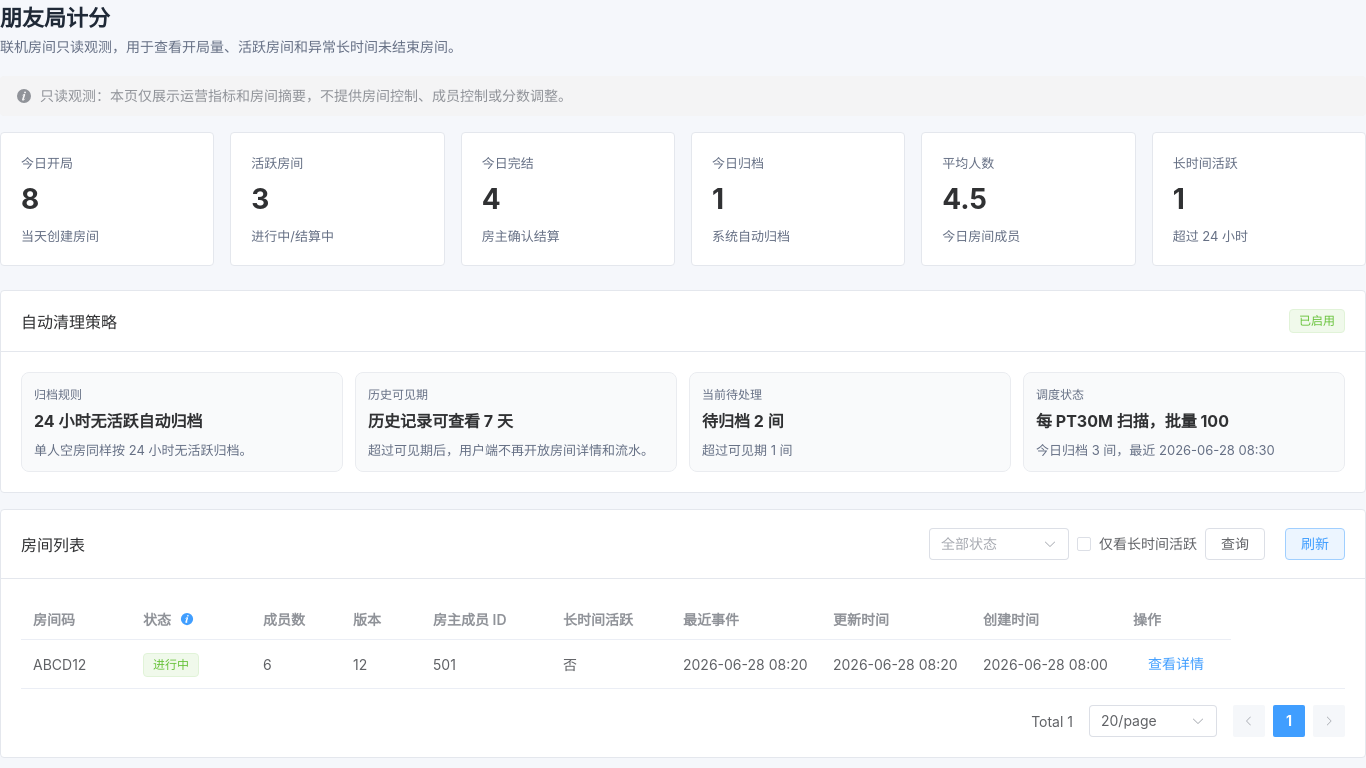
Test case: PartyScorePage › falls back to local status metadata when backend dictionary loading fails
Click the button named "状态说明": {"x": 187, "y": 619} [175, 607, 199, 631]
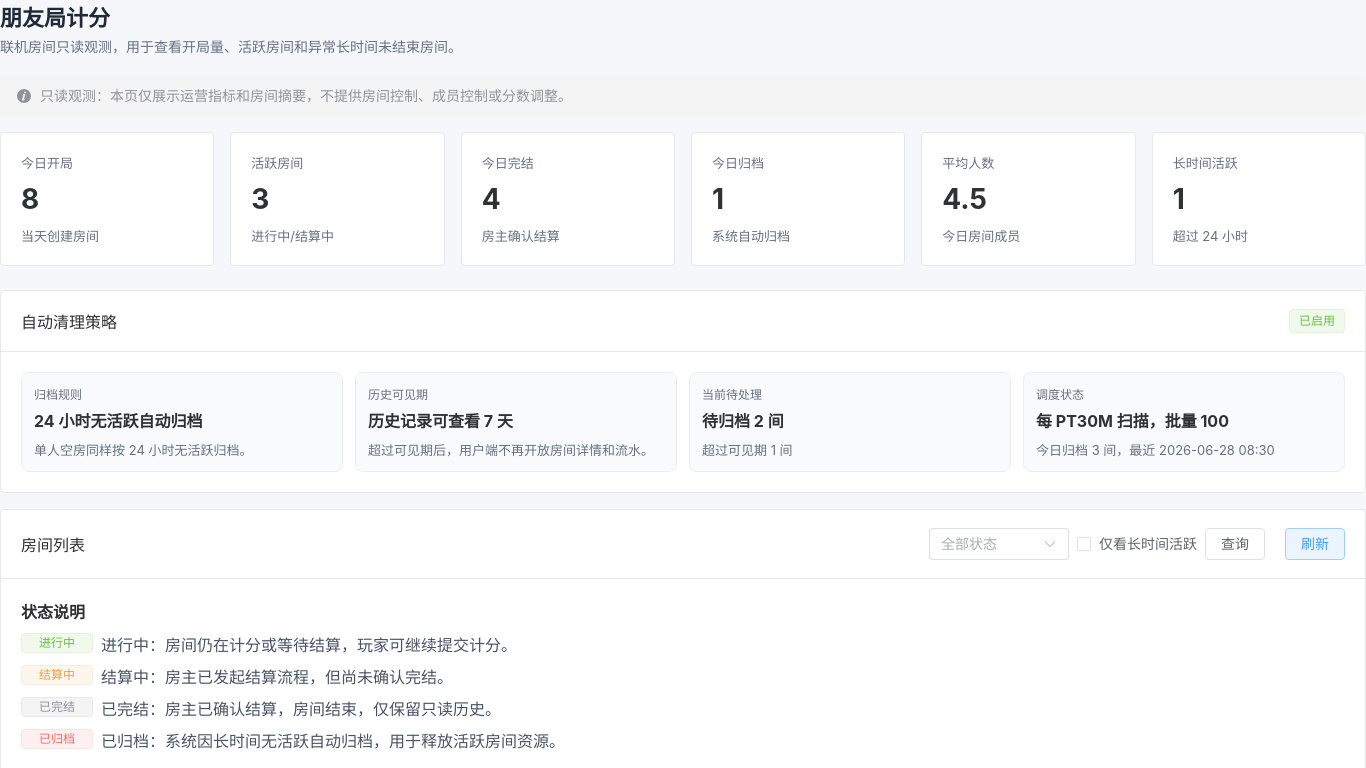
Expected: the text "进行中：房间仍在计分或等待结算，玩家可继续提交计分。" is shown, [101, 635, 517, 655]
